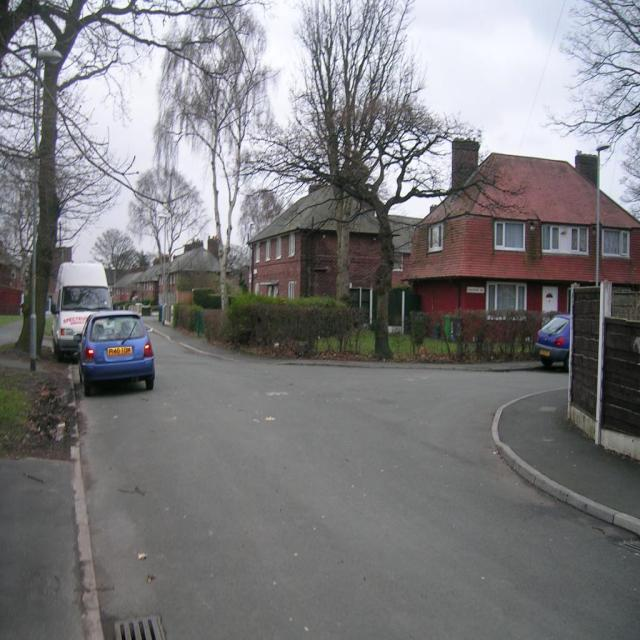car: (73, 310, 154, 391)
